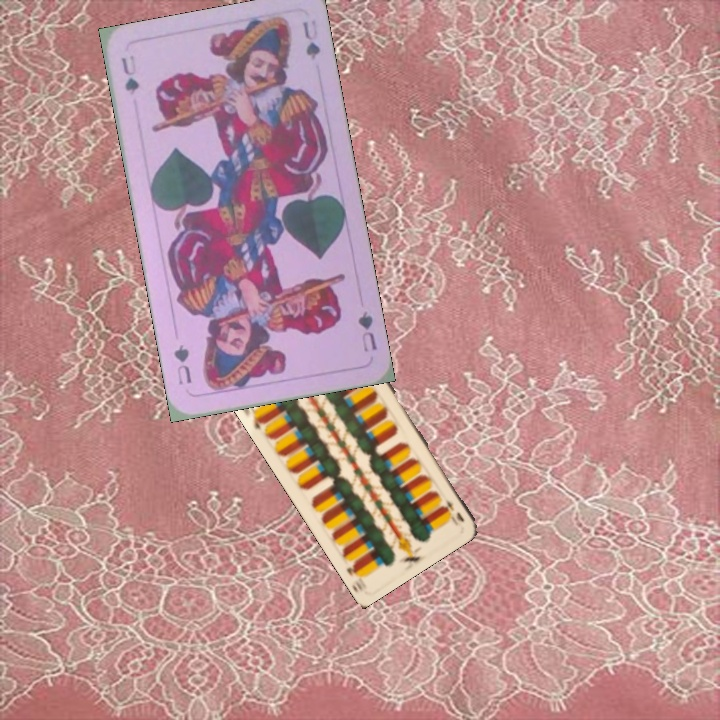E10: (237, 402, 269, 432), (441, 495, 467, 525)
GU: (353, 306, 380, 355), (117, 51, 141, 98)
